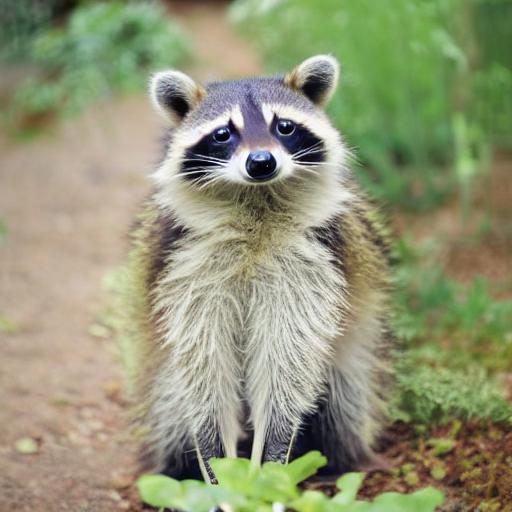raccoon: (122, 47, 388, 477)
